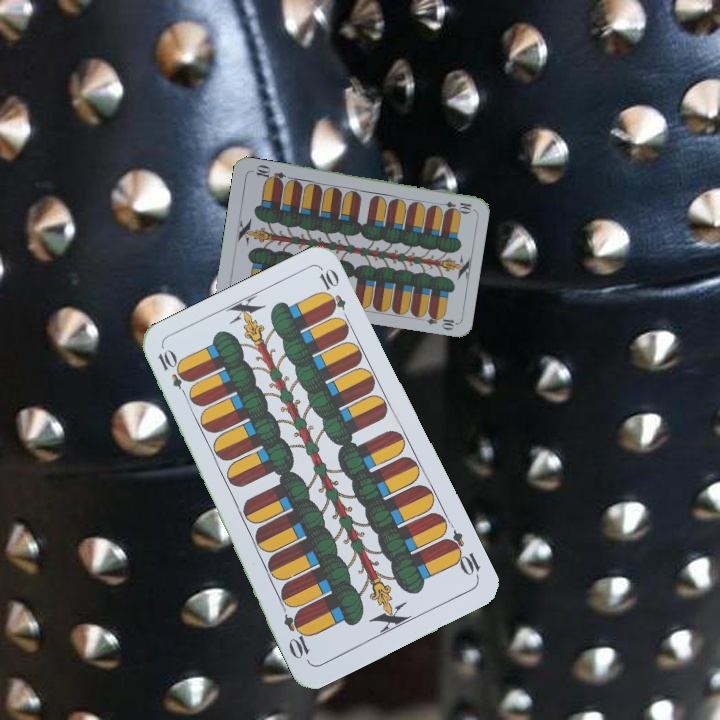E10: (440, 526, 483, 582), (153, 345, 193, 402), (433, 197, 474, 214)
